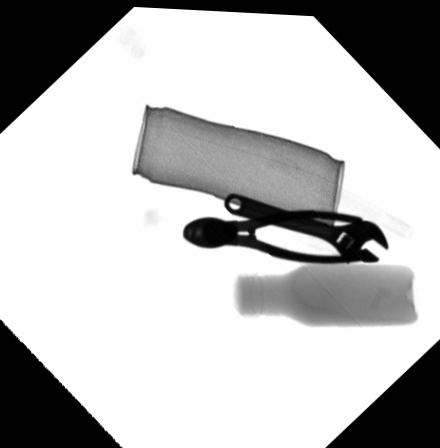Pliers: (181, 204, 379, 261)
Wrench: (222, 188, 389, 262)
